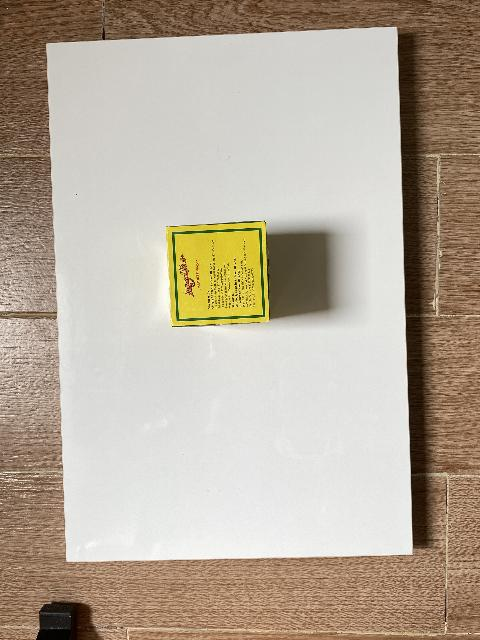luong_kho: (166, 221, 270, 327)
